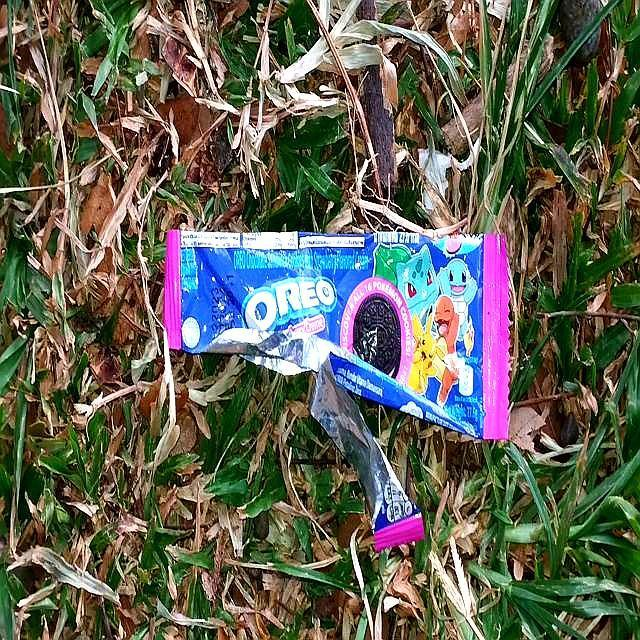Non-biodegradable: (164, 228, 515, 443)
